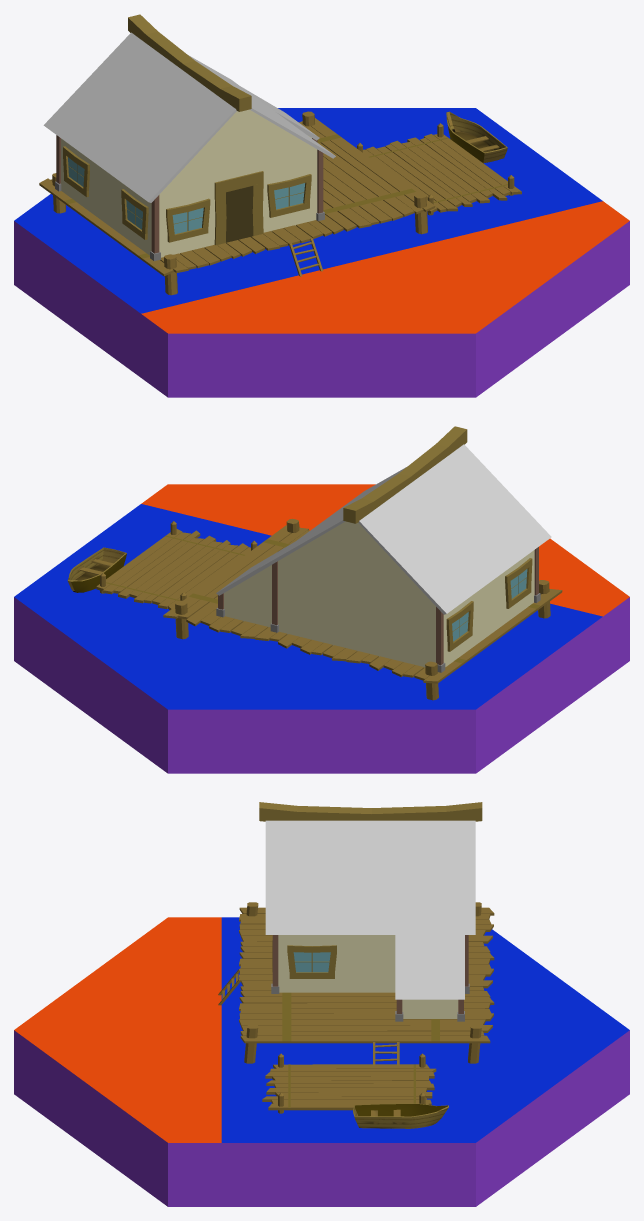
The model's file is Tuile_Village_Pecheur_Level3.fbx.
The picture shows the model from 3 angles, top to bottom: view 1: azimuth 30°, elevation 25°; view 2: azimuth 150°, elevation 25°; view 3: azimuth 270°, elevation 25°; orthographic projection.
Parts seen in each view (by area): view 1: Tuile, toit, mur maison, platforme 2, platorme 3, fenetre, porte, Bateau.001, poutre; view 2: Tuile, mur maison, toit, platforme 2, platorme 3, cabane, fenetre, Bateau.001, poutre; view 3: Tuile, toit, platforme 2, mur maison, platorme 3, cabane toit, Bateau.001, fenetre, cabane, poutre.
Part boxes in pixels (x1=…): Tuile: x1=14, y1=108, x2=629, y2=397; toit: x1=43, y1=32, x2=335, y2=202; mur maison: x1=61, y1=14, x2=317, y2=257; platforme 2: x1=39, y1=111, x2=434, y2=295; platorme 3: x1=357, y1=123, x2=521, y2=215; fenetre: x1=63, y1=146, x2=311, y2=242; porte: x1=214, y1=171, x2=263, y2=245; Bateau.001: x1=446, y1=111, x2=507, y2=163; poutre: x1=55, y1=135, x2=324, y2=261; Tuile: x1=14, y1=484, x2=629, y2=773; mur maison: x1=278, y1=426, x2=534, y2=667; toit: x1=259, y1=444, x2=551, y2=614; platforme 2: x1=163, y1=518, x2=562, y2=700; platorme 3: x1=96, y1=521, x2=257, y2=609; cabane: x1=224, y1=565, x2=271, y2=627; fenetre: x1=446, y1=558, x2=532, y2=651; Bateau.001: x1=67, y1=547, x2=126, y2=592; poutre: x1=270, y1=547, x2=540, y2=672; Tuile: x1=14, y1=917, x2=629, y2=1206; toit: x1=265, y1=820, x2=475, y2=934; platforme 2: x1=218, y1=902, x2=494, y2=1063; mur maison: x1=259, y1=802, x2=482, y2=992; platorme 3: x1=262, y1=1042, x2=436, y2=1113; cabane toit: x1=395, y1=935, x2=464, y2=999; Bateau.001: x1=353, y1=1103, x2=448, y2=1128; fenetre: x1=272, y1=935, x2=336, y2=978; cabane: x1=402, y1=999, x2=458, y2=1018; poutre: x1=271, y1=935, x2=469, y2=993.
Size of the model in its own units: 107 by 52.43 by 124.
